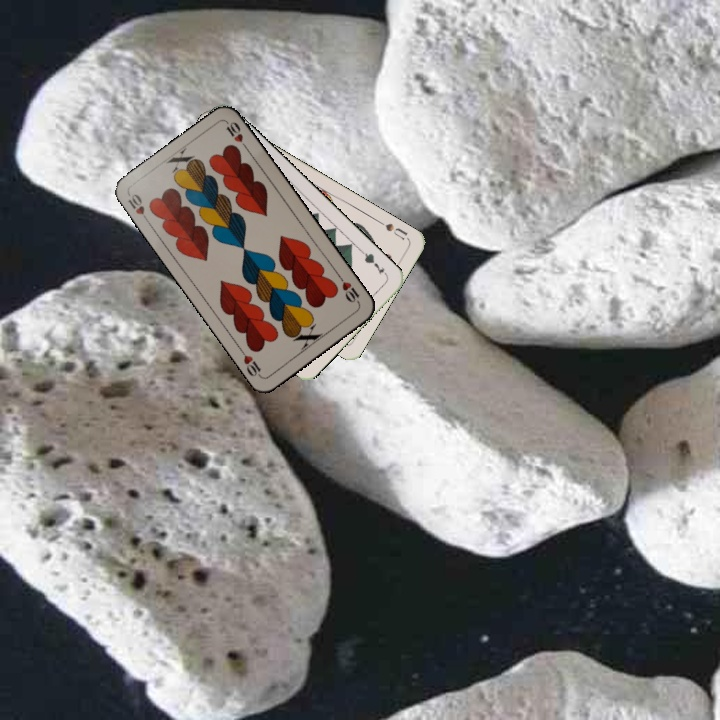G7: (357, 247, 388, 277)
H10: (334, 271, 363, 307), (123, 190, 152, 226)
SU: (374, 216, 410, 242)
